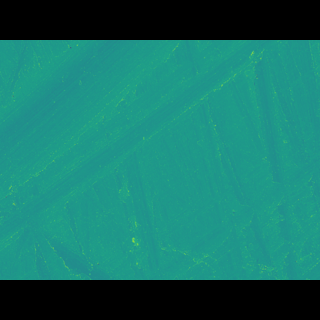Loch: (0, 69, 288, 228), (118, 152, 320, 251)
